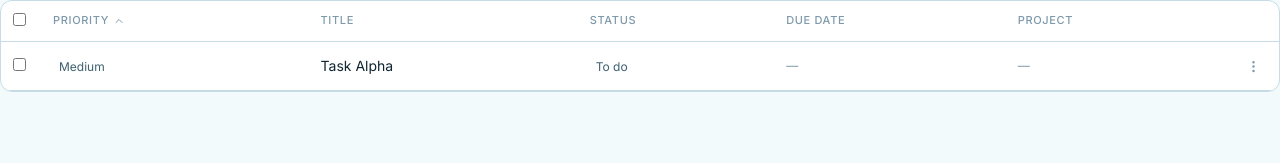
ListView › row checkbox adds task to selection
Expected: the text "Archive 1 tasks" is not shown
What coordinates should you click on to do the following:
click the checkbox named "Select Task Alpha"
I would click on:
 (20, 64)
Its box is [13,58,26,71].
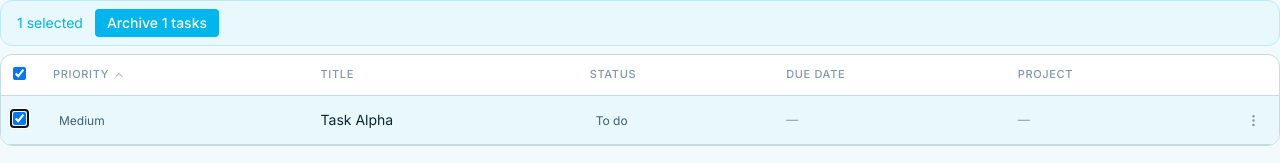
Now the button "Archive 1 tasks" is shown, box [95,9,219,37]
